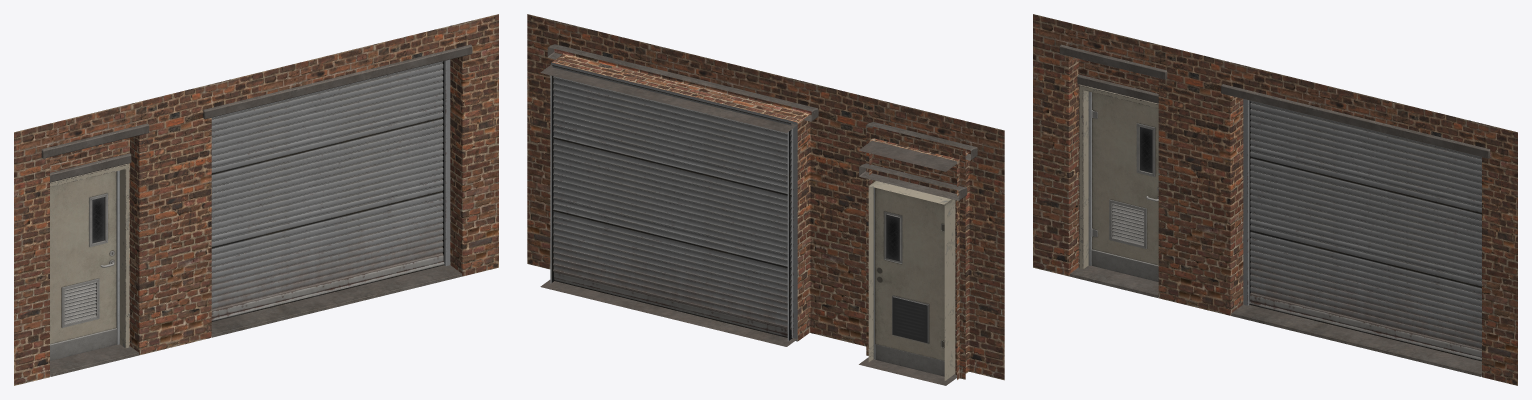
Rendered from factory_loading_bay.glb.
3 views of the same model, side by side, from view 1: azimuth 30°, elevation 25°; view 2: azimuth 150°, elevation 25°; view 3: azimuth 330°, elevation 25° (orthographic).
Parts seen in each view (by area): view 1: factory_loading_bay; view 2: factory_loading_bay; view 3: factory_loading_bay.
Part boxes in pixels (x1,y1,x2,y2): factory_loading_bay: (14,14,498,385); factory_loading_bay: (527,14,1004,385); factory_loading_bay: (1033,14,1517,385).
Bounding box in the file's own units: 6 × 3 × 0.53.
4 materials, 4 textured.
